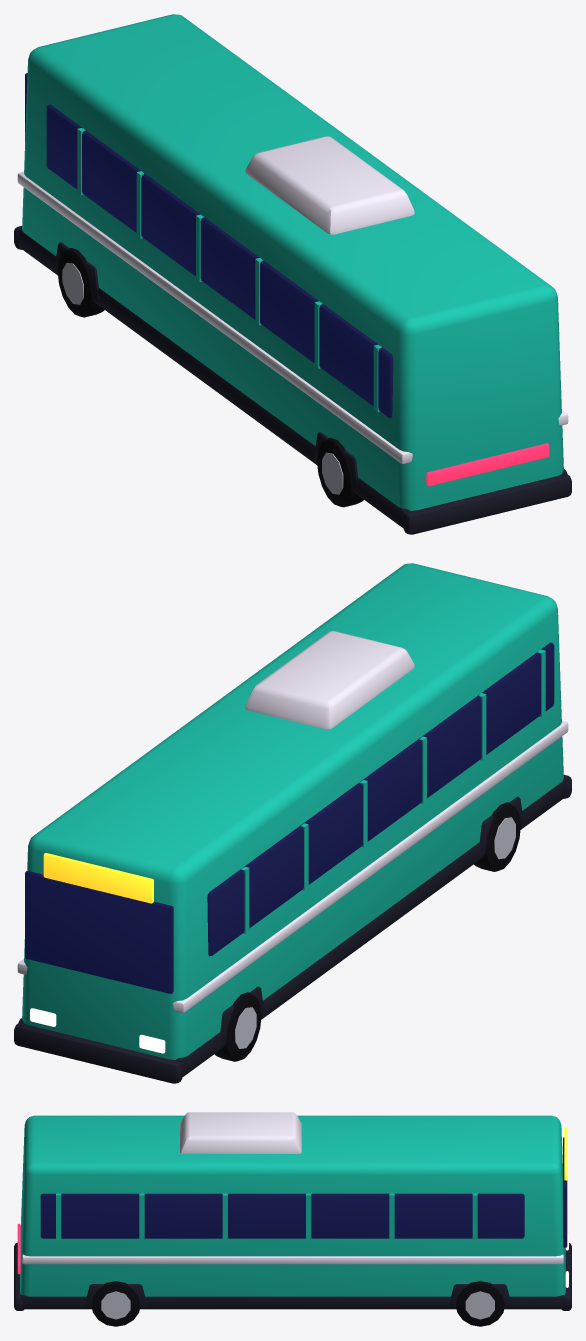
Rendered from city_bus.glb.
3 views of the same model, one above another, from view 1: azimuth 30°, elevation 25°; view 2: azimuth 150°, elevation 25°; view 3: azimuth 270°, elevation 25° (orthographic). The views are drawn at different scales.
Parts seen in each view (by area): view 1: Body, WheelRLMesh, WheelFLMesh; view 2: Body, WheelFLMesh, WheelRLMesh; view 3: Body, WheelFRMesh, WheelRRMesh.
Part boxes in pixels (<box>): Body: <box>14,14,571,534</box>; WheelRLMesh: <box>317,437,363,507</box>; WheelFLMesh: <box>57,248,104,317</box>; Body: <box>14,563,571,1083</box>; WheelFLMesh: <box>214,992,261,1061</box>; WheelRLMesh: <box>474,802,520,871</box>; Body: <box>14,1112,571,1310</box>; WheelFRMesh: <box>456,1281,504,1326</box>; WheelRRMesh: <box>91,1281,140,1326</box>.
Size of the model in its own units: 2.7 by 3.7 by 10.72.
